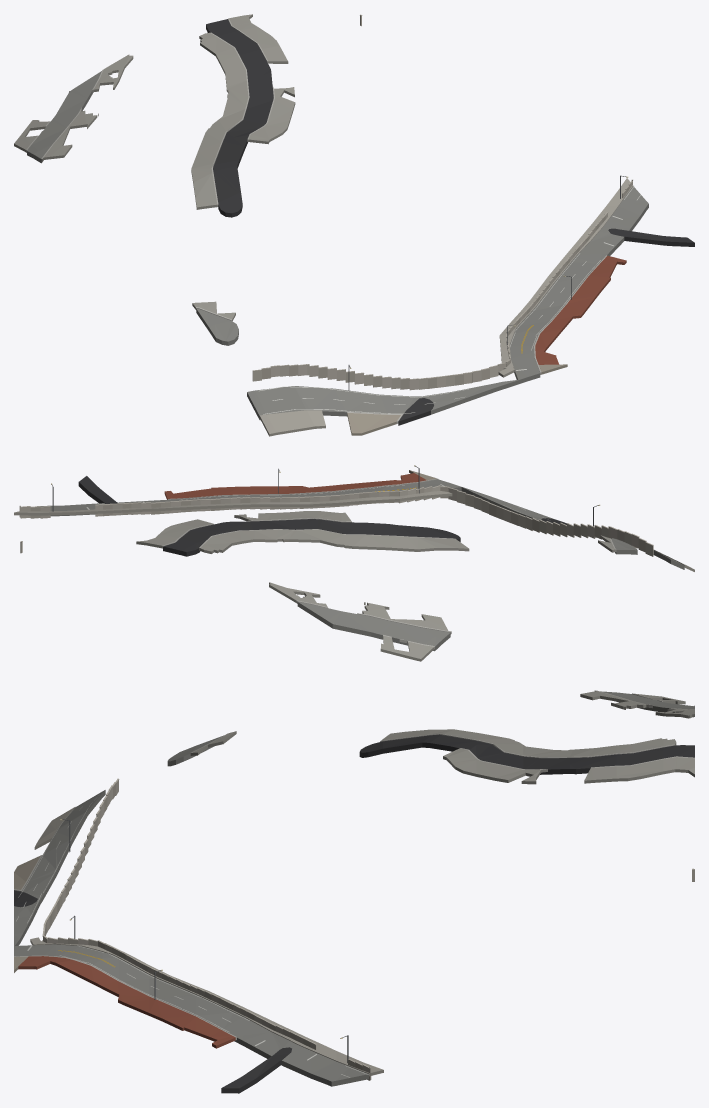
The model's file is 18-218861-118952.2afe76d5.glb.
3 views of the same model, one above another, from view 1: azimuth 30°, elevation 25°; view 2: azimuth 150°, elevation 25°; view 3: azimuth 270°, elevation 25° (orthographic). The views are drawn at different scales.
Size of the model in its own units: 147 by 48.58 by 146.
